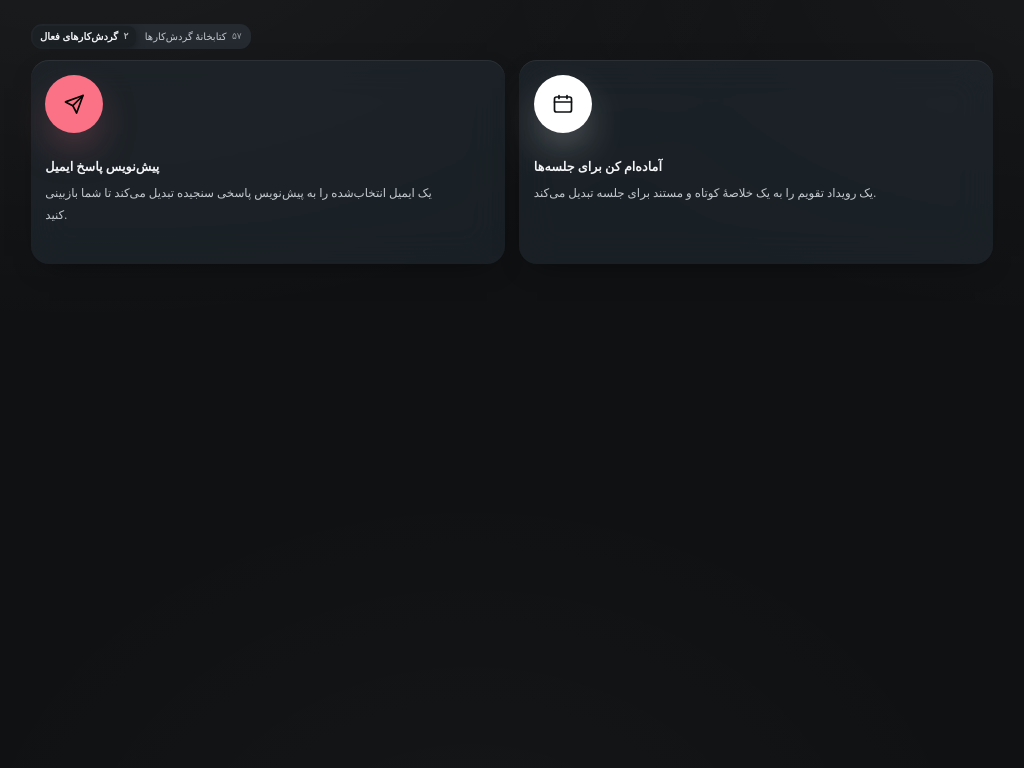
Scenario: the workflows list › renders one card per template, with the WHOLE card as the link
Click the tab "کتابخانهٔ گردش‌کارها ۵۷".
click(193, 36)  # box [138,26,249,47]
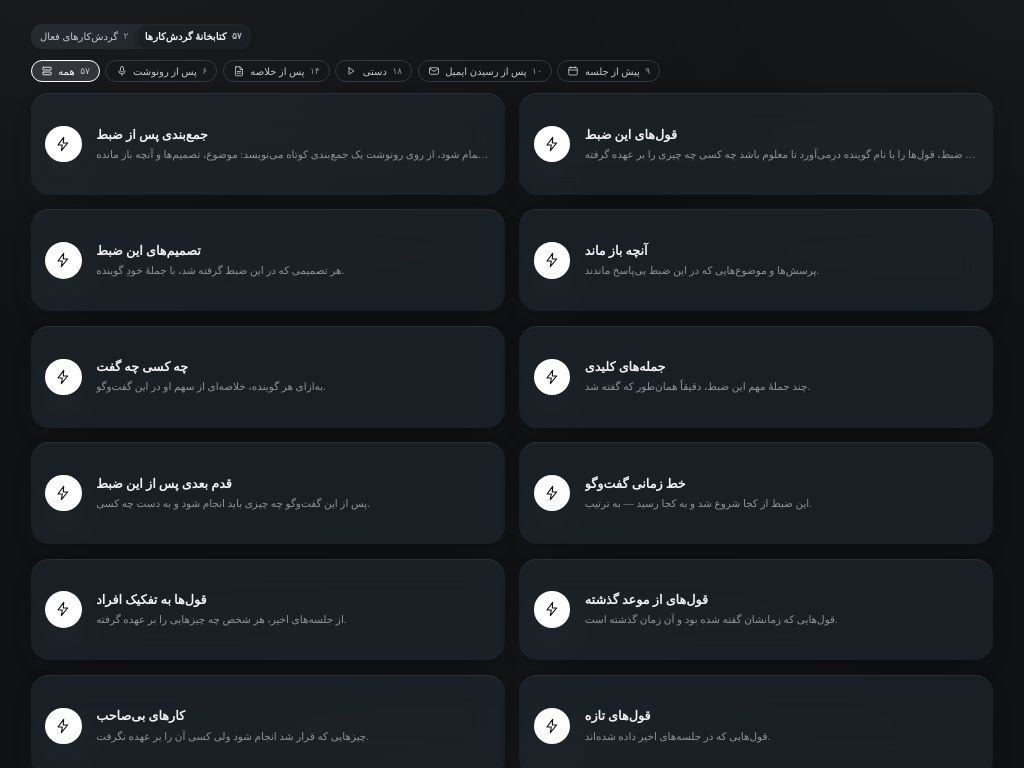
Click the tab "گردش‌کارهای فعال ۲".
click(84, 36)  # box [33,26,136,47]
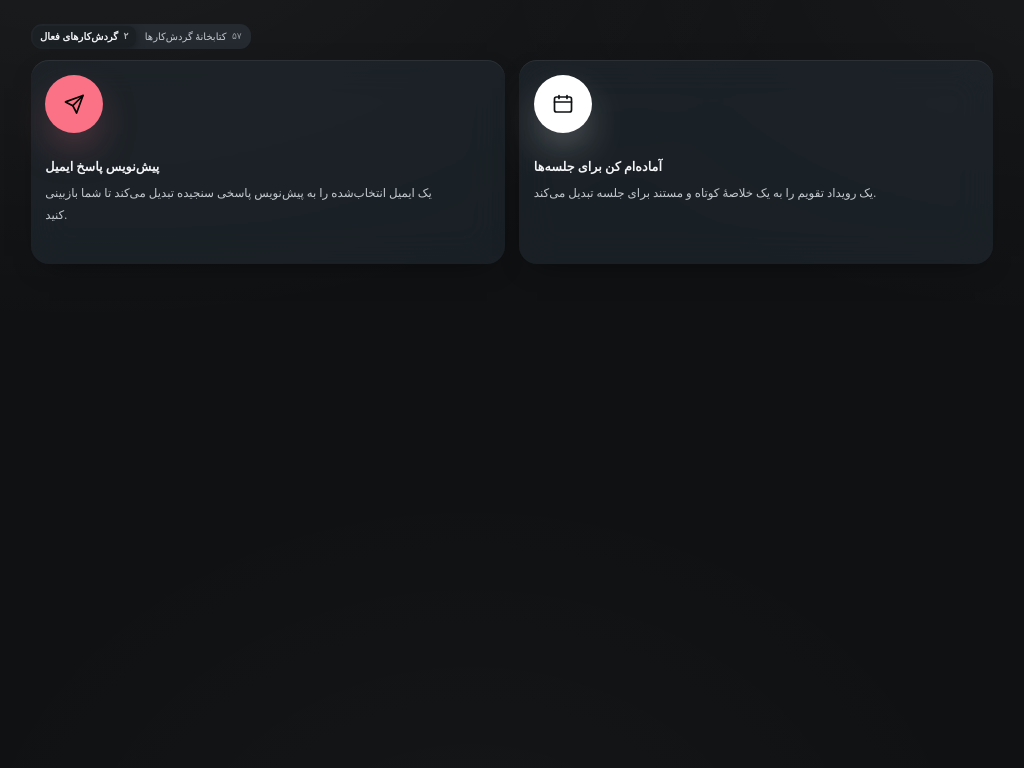
expect the link that starts with "پیش‌نویس پاسخ ایمیل" is shown: met, box [31,60,505,264]
expect the link that starts with "پیش‌نویس پاسخ ایمیل" shows "یک ایمیل انتخاب‌شده را به پیش‌نویس پاسخی سنجیده تبدیل می‌کند تا شما بازبینی کنید.": met, box [31,60,505,264]
expect the link that starts with "آماده‌ام کن برای جلسه‌ها" is shown: met, box [519,60,993,264]
